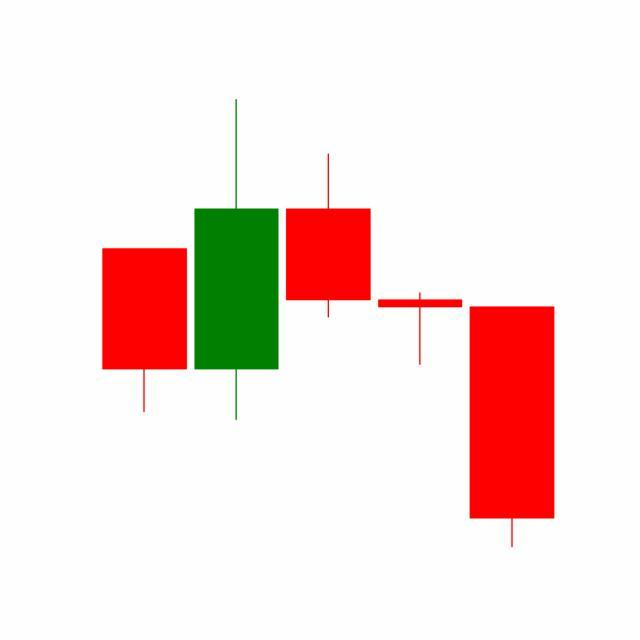Spinning Top: (374, 291, 468, 367)
